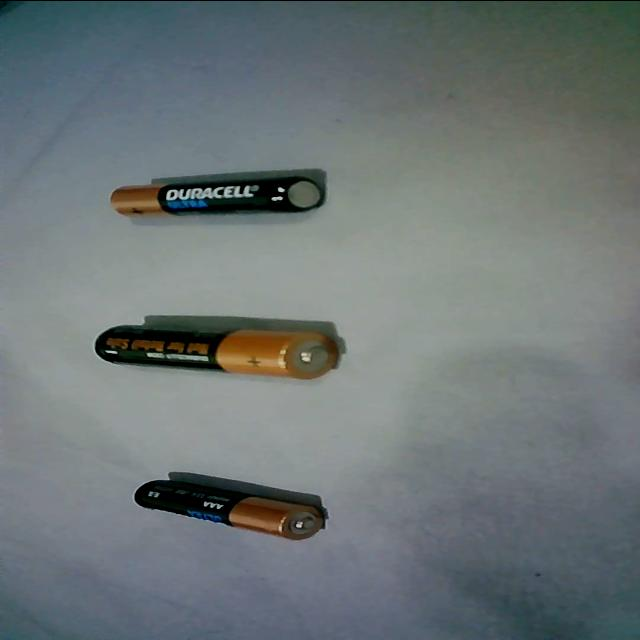AA: (88, 322, 344, 384)
AAA: (125, 472, 331, 544), (106, 170, 330, 222)
